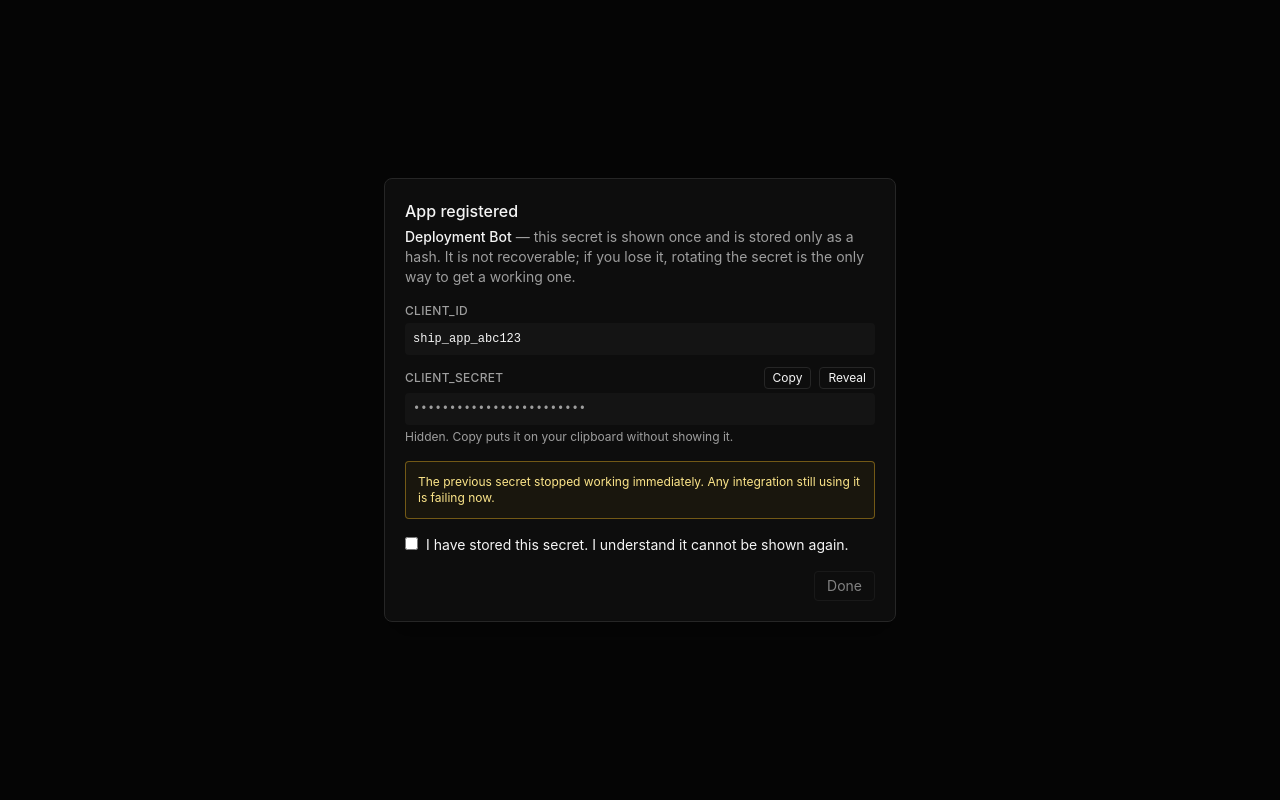
Test case: PF-666 — the secret is masked by default and revealed deliberately › Reveal puts it in the document, and Hide takes it back out
Click the button with test id "secret-once-reveal" at (847, 378), box [819,367,875,389]
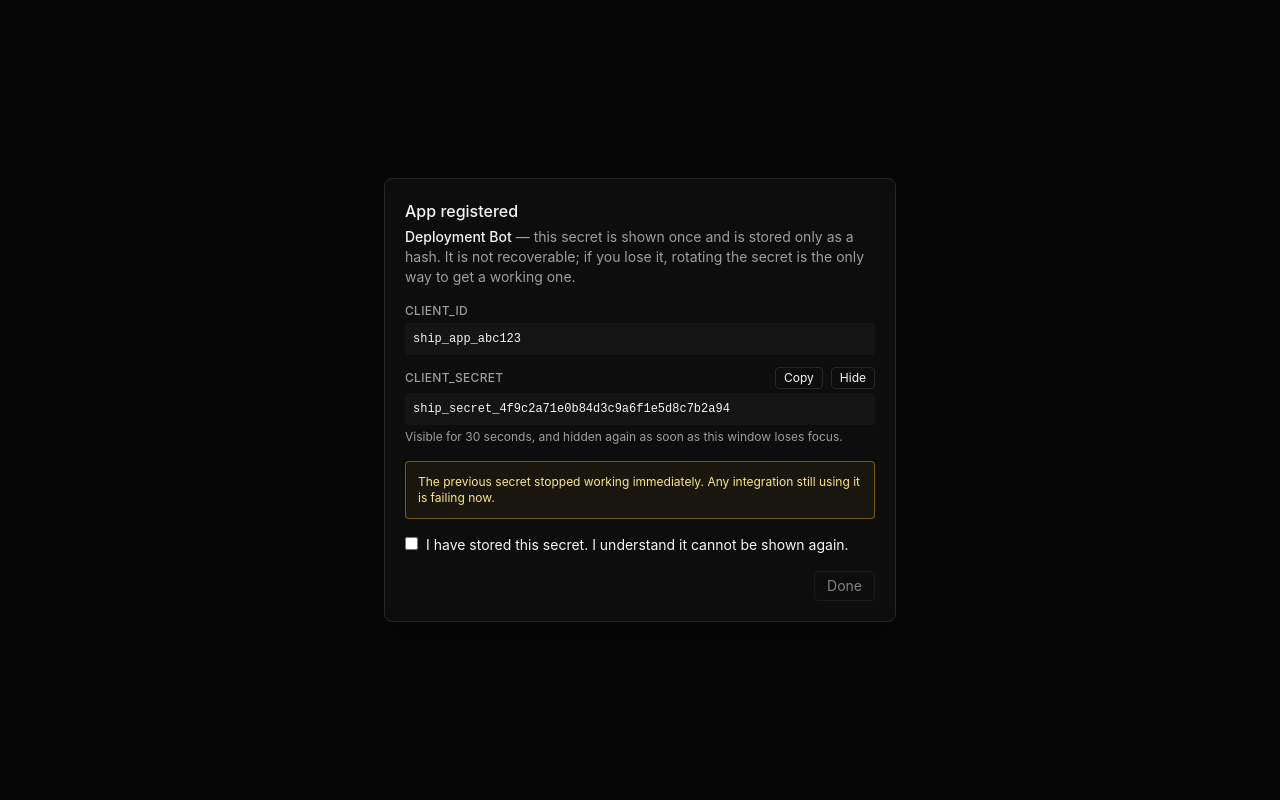
Result: the text with test id "secret-once-value" reads "ship_secret_4f9c2a71e0b84d3c9a6f1e5d8c7b2a94" at [413,402,730,416]
Click the button with test id "secret-once-reveal" at (853, 378), box [831,367,875,389]
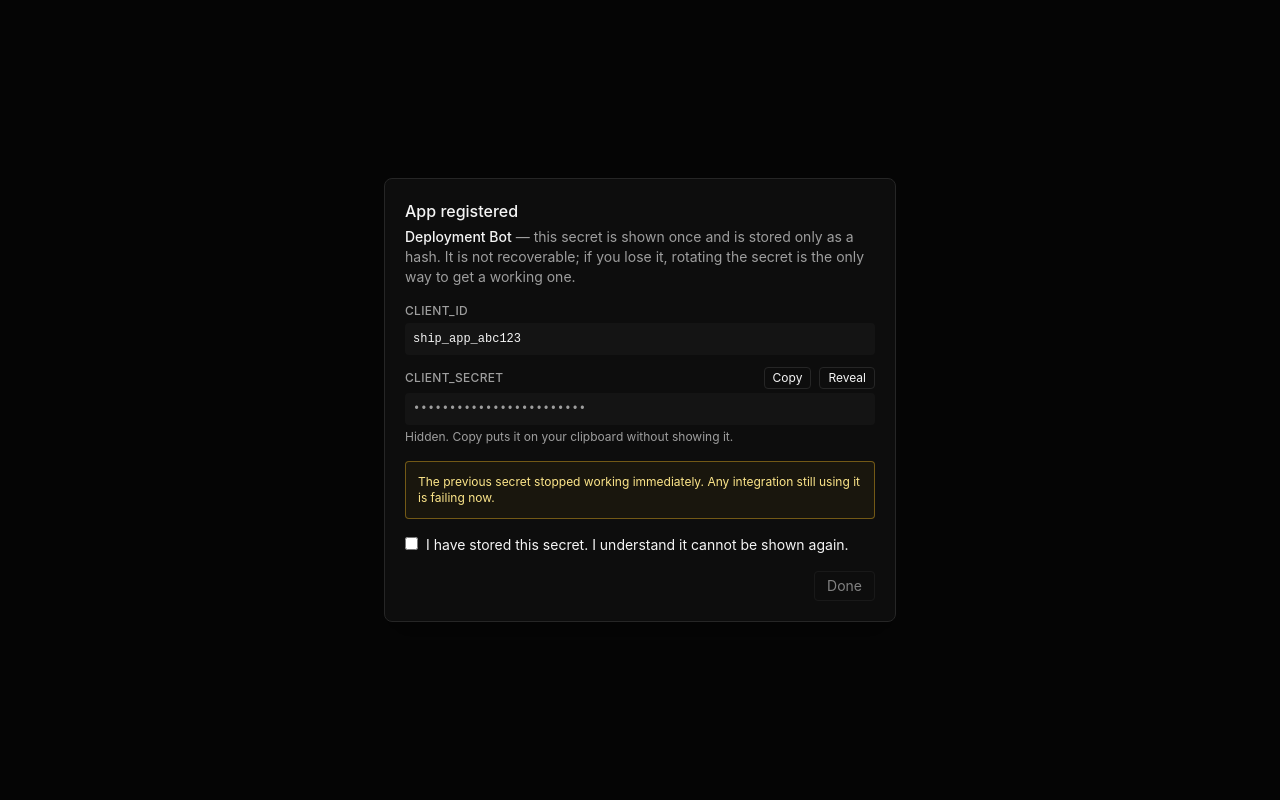
Result: the text "ship_secret_4f9c2a71e0b84d3c9a6f1e5d8c7b2a94" is gone
